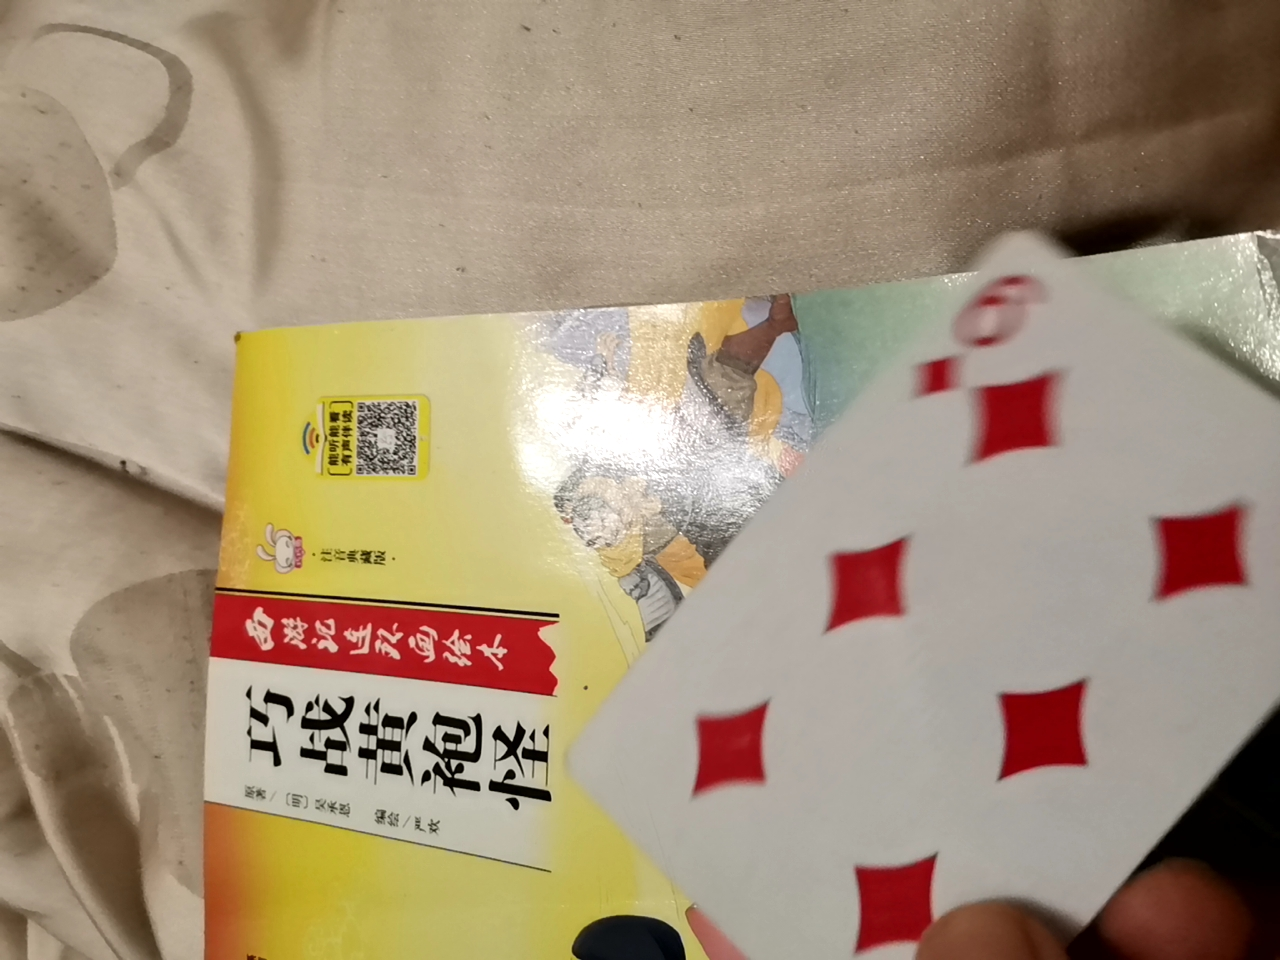fk 6: (613, 239, 1279, 947)
